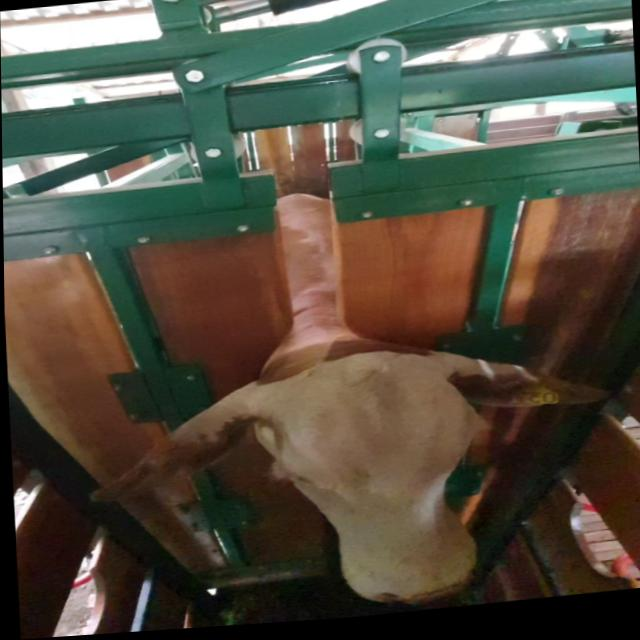cowFace: (273, 348, 487, 616)
